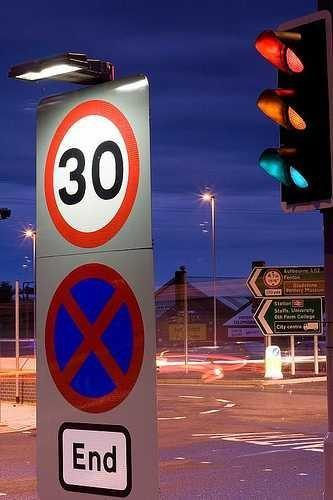5: (254, 27, 322, 77)
9: (256, 76, 322, 140)
red traffic light: (258, 143, 324, 198)
